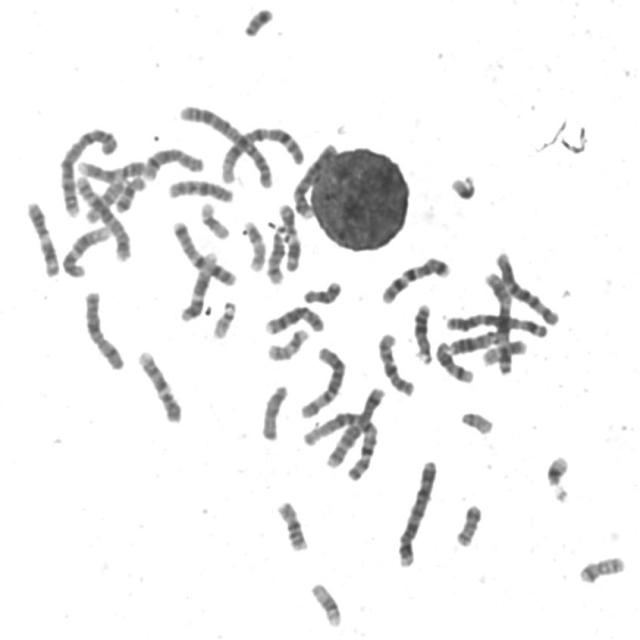A1: (296, 406, 380, 482), (217, 122, 305, 184)
A2: (174, 99, 276, 190), (55, 123, 119, 219)
A3: (479, 268, 515, 377), (441, 308, 549, 338)
B4: (392, 454, 439, 570), (287, 137, 339, 220)
B5: (70, 169, 132, 262), (322, 382, 386, 469)
C10: (373, 327, 417, 398), (163, 174, 234, 204)
C11: (20, 195, 60, 278), (274, 198, 302, 273)
C12: (175, 246, 220, 323), (57, 219, 113, 279)
C6: (491, 246, 561, 327), (296, 342, 347, 421)
C7: (168, 215, 238, 288), (376, 251, 453, 305)
C8: (139, 142, 205, 182), (259, 300, 326, 337)
C9: (132, 345, 184, 424), (73, 154, 148, 182)
D13: (408, 298, 434, 365), (445, 325, 501, 355)
D14: (431, 336, 475, 384), (262, 220, 288, 286)
D15: (80, 174, 128, 224), (256, 380, 290, 443)
E16: (272, 496, 310, 553), (478, 342, 533, 369)
E17: (262, 322, 310, 362), (239, 215, 268, 273)
E18: (110, 170, 147, 214), (298, 276, 344, 305)
F19: (306, 577, 344, 629), (195, 196, 232, 241)
F20: (574, 550, 627, 585), (450, 498, 484, 548)
G21: (540, 449, 572, 503), (446, 170, 478, 201)
G22: (207, 296, 237, 340), (456, 405, 495, 436)
X: (78, 286, 126, 372)
Y: (239, 1, 275, 38)
